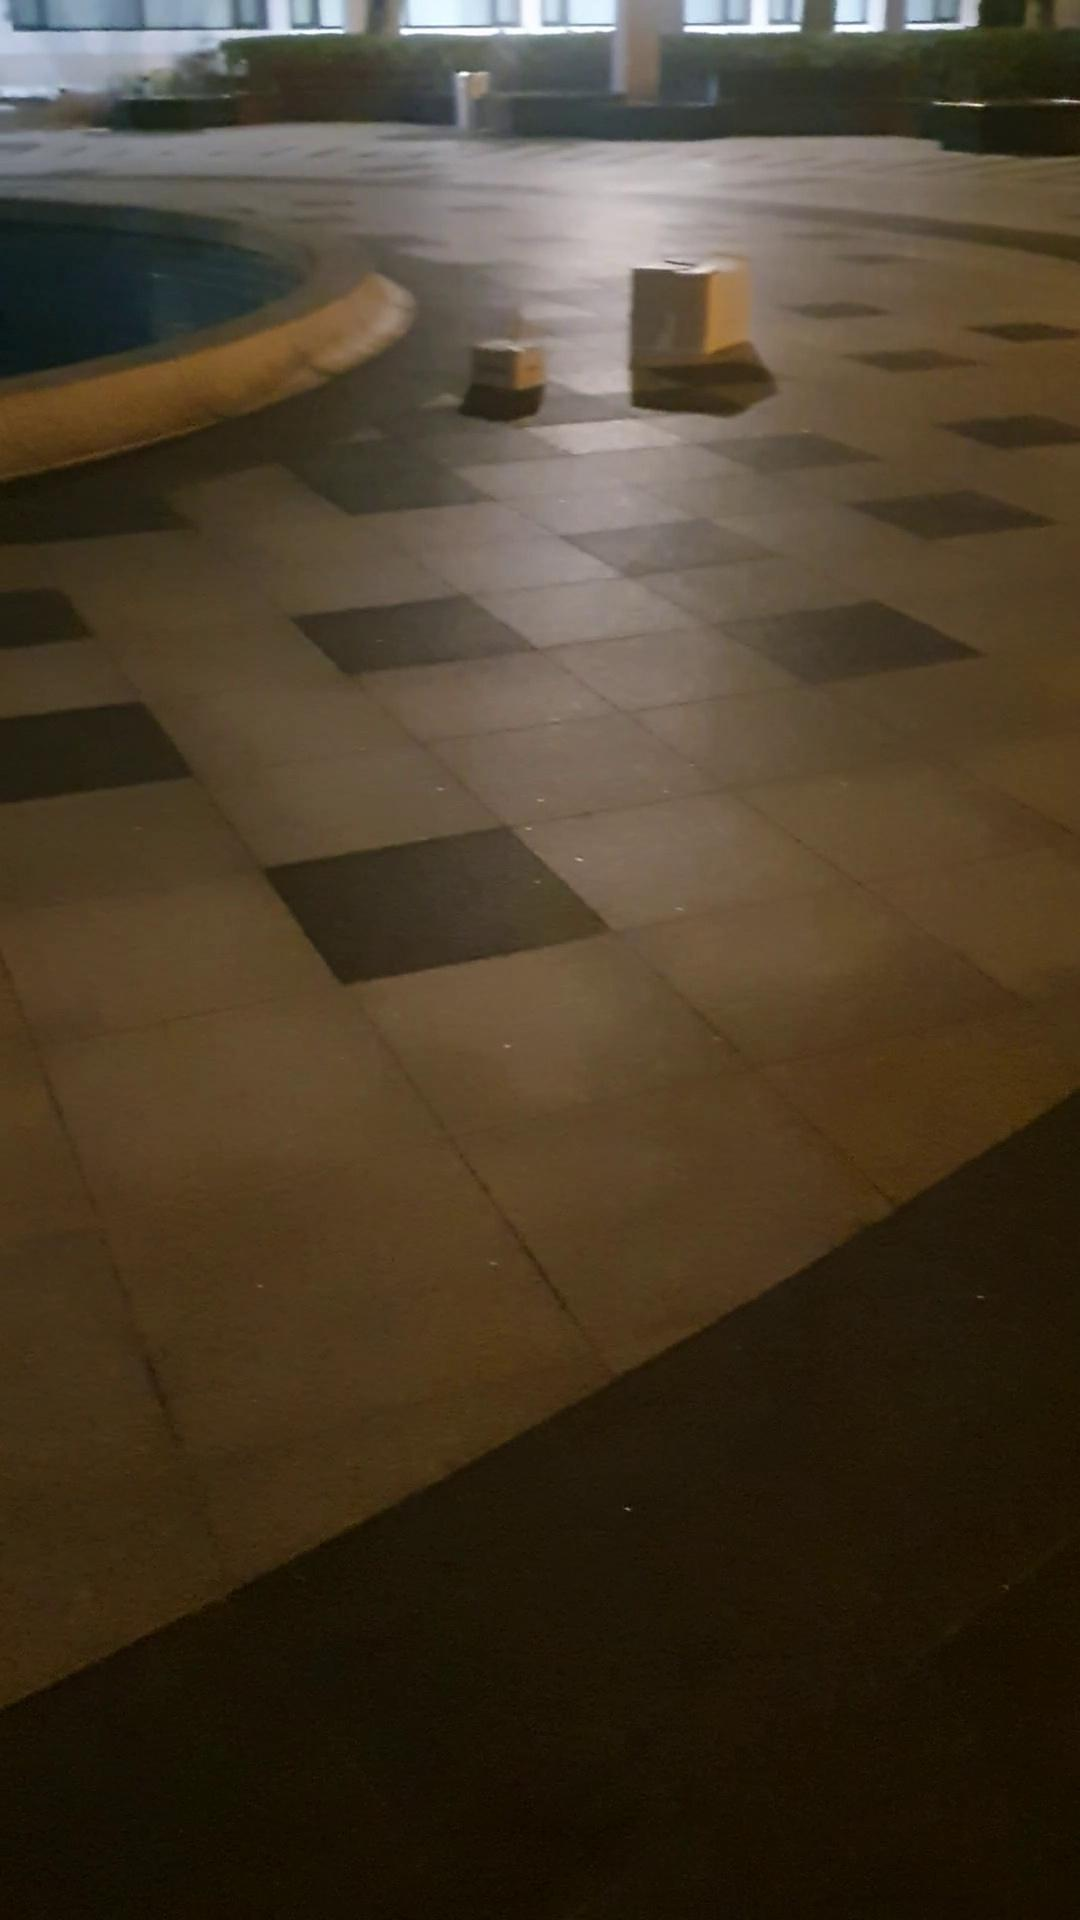Box: (622, 237, 757, 385), (473, 334, 556, 407)
